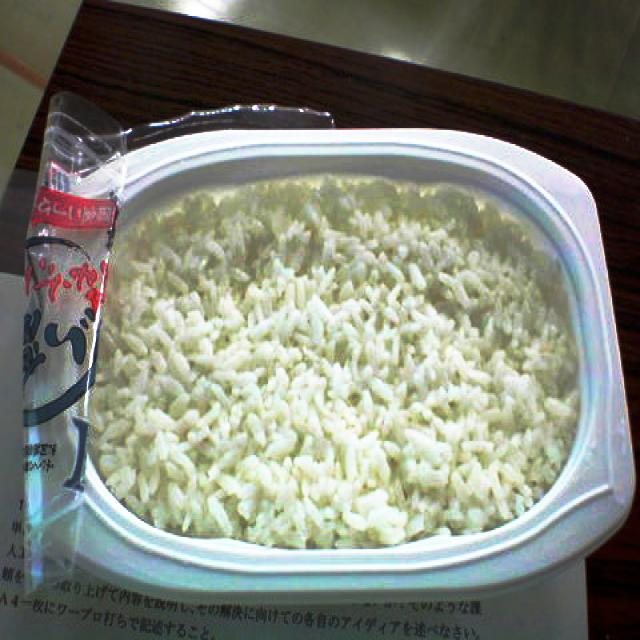rice: (87, 180, 580, 548)
